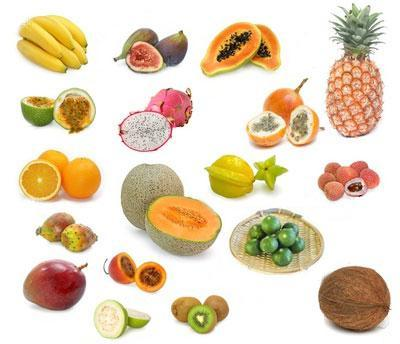chuoi: (18, 15, 89, 71)
